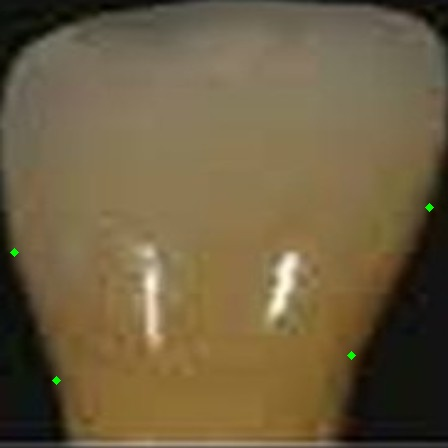coin_1: (351, 355, 371, 375)
coin_2: (429, 207, 448, 227)
coin_3: (56, 380, 76, 400)
coin_4: (14, 252, 34, 272)
